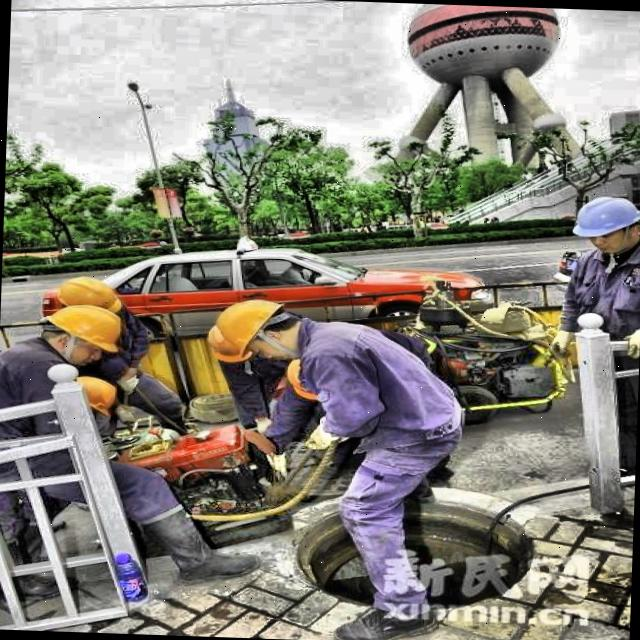helmet: (207, 291, 308, 371), (36, 297, 132, 356), (570, 191, 640, 258), (56, 274, 122, 318)
